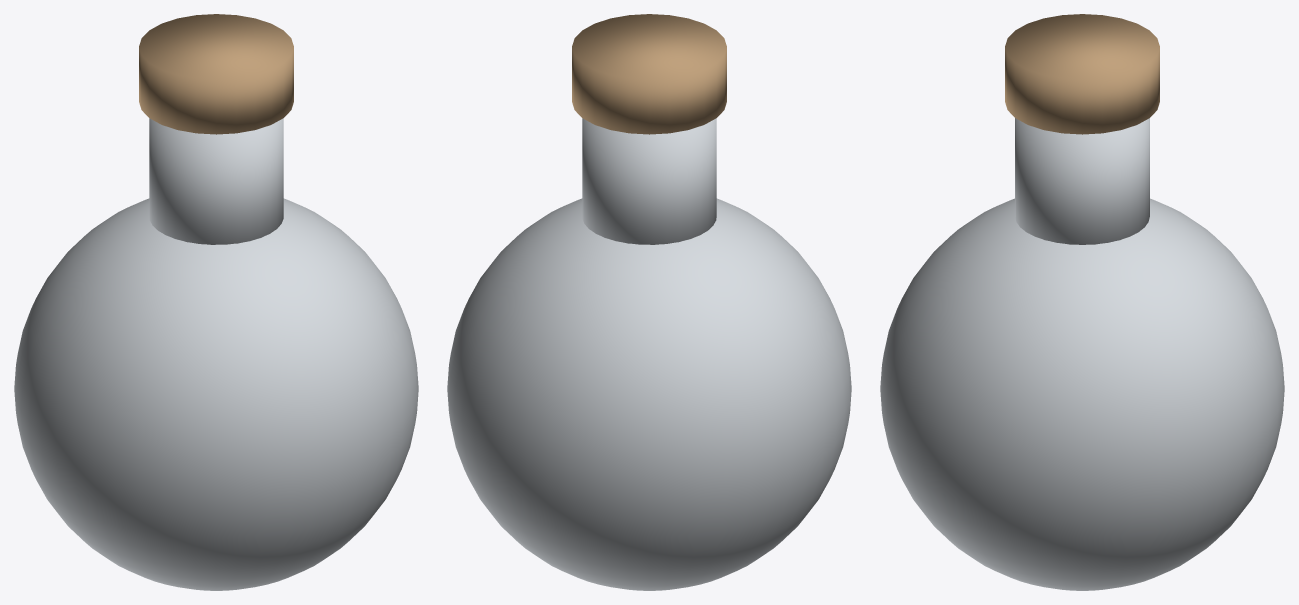
Rendered from magic-dust.glb.
3 views of the same model, side by side, from view 1: azimuth 30°, elevation 25°; view 2: azimuth 150°, elevation 25°; view 3: azimuth 270°, elevation 25° (orthographic).
Parts seen in each view (by area): view 1: Sphere, Cylinder.001, Cylinder; view 2: Sphere, Cylinder.001, Cylinder; view 3: Sphere, Cylinder.001, Cylinder.
Part boxes in pixels (box(x1,y1,x2,y2)): Sphere: box(14, 198, 418, 590); Cylinder.001: box(139, 14, 293, 134); Cylinder: box(149, 118, 283, 244); Sphere: box(447, 198, 851, 590); Cylinder.001: box(572, 14, 726, 134); Cylinder: box(582, 118, 716, 244); Sphere: box(880, 198, 1284, 590); Cylinder.001: box(1005, 14, 1159, 134); Cylinder: box(1015, 118, 1149, 244).
Bounding box in the file's own units: 1.04 × 1.49 × 1.04.
